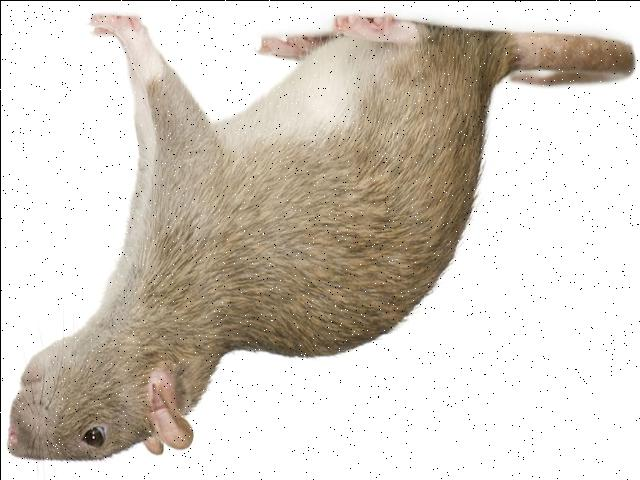Tikus: (9, 15, 628, 463)
